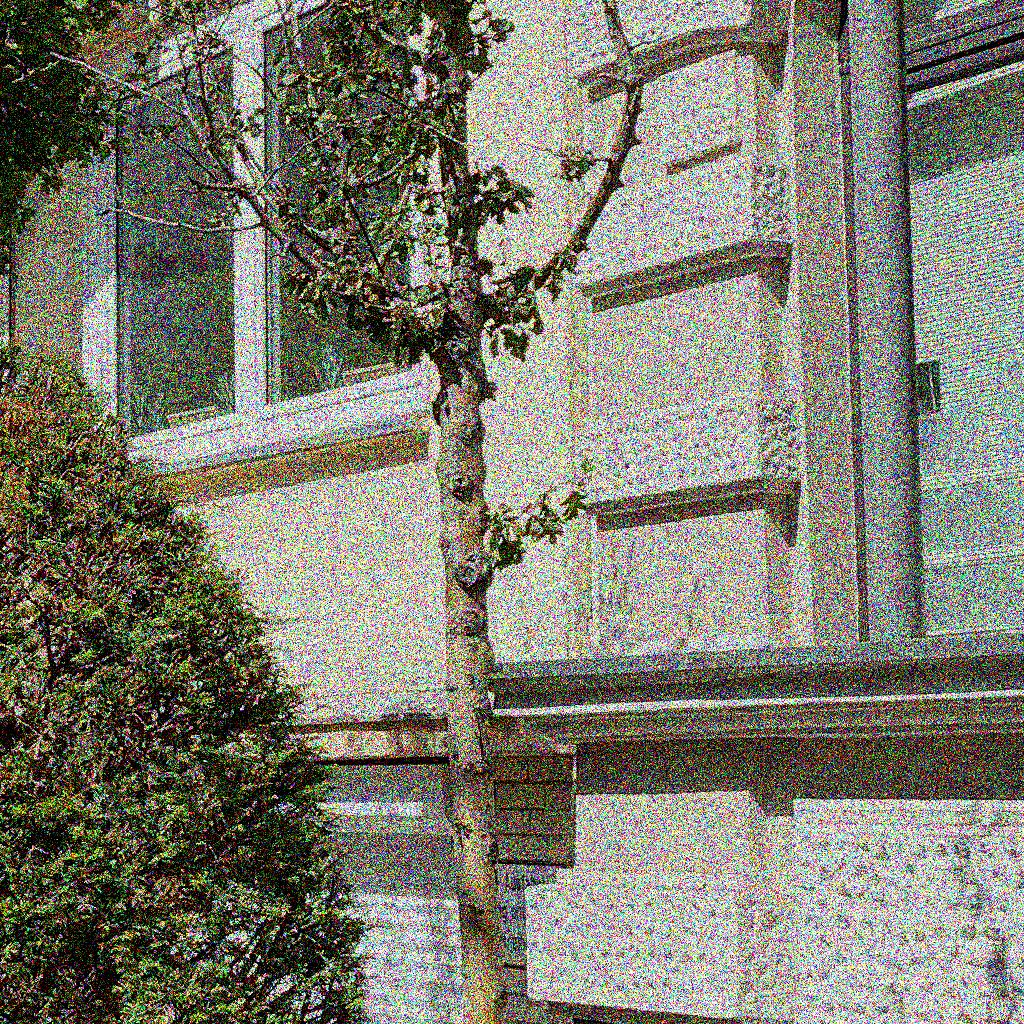tree: (48, 1, 649, 1023), (1, 1, 173, 388)
